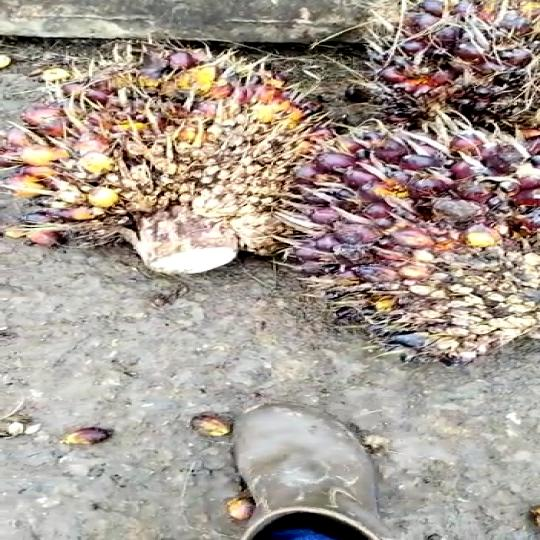masak: (1, 43, 355, 289), (273, 125, 540, 368), (341, 0, 540, 161)
